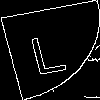L: (25, 24, 68, 76)
